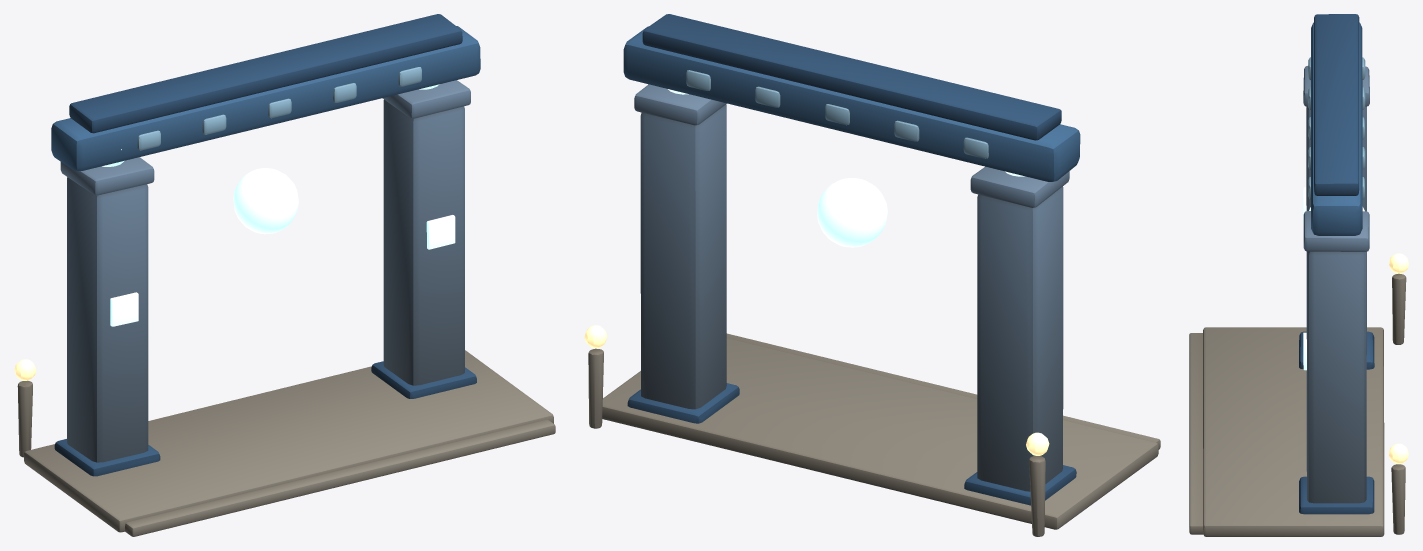
3 renders of one model, left to right at view 1: azimuth 30°, elevation 25°; view 2: azimuth 150°, elevation 25°; view 3: azimuth 270°, elevation 25°, orthographic. The views are drawn at different scales.
Visible parts, largest first — view 1: gate_ee7d8bbd; view 2: gate_ee7d8bbd; view 3: gate_ee7d8bbd.
Part boxes in pixels (x1,y1,x2,y2): gate_ee7d8bbd: (14,14,555,536); gate_ee7d8bbd: (584,14,1160,536); gate_ee7d8bbd: (1189,14,1408,536).
Bounding box in the file's own units: 5.48 × 4.37 × 2.55.
